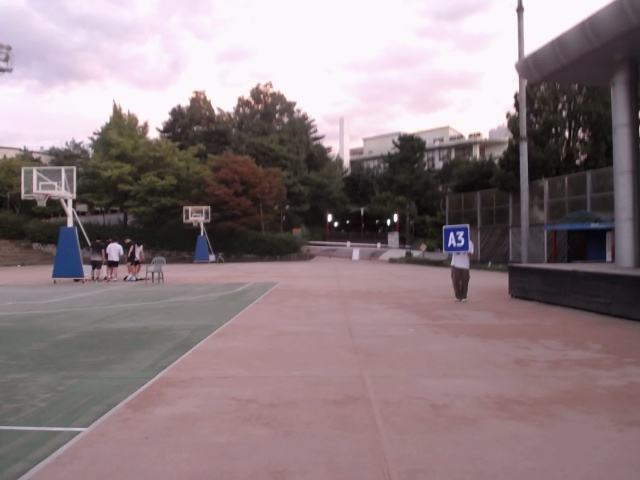delivery_a3: (443, 224, 469, 253)
